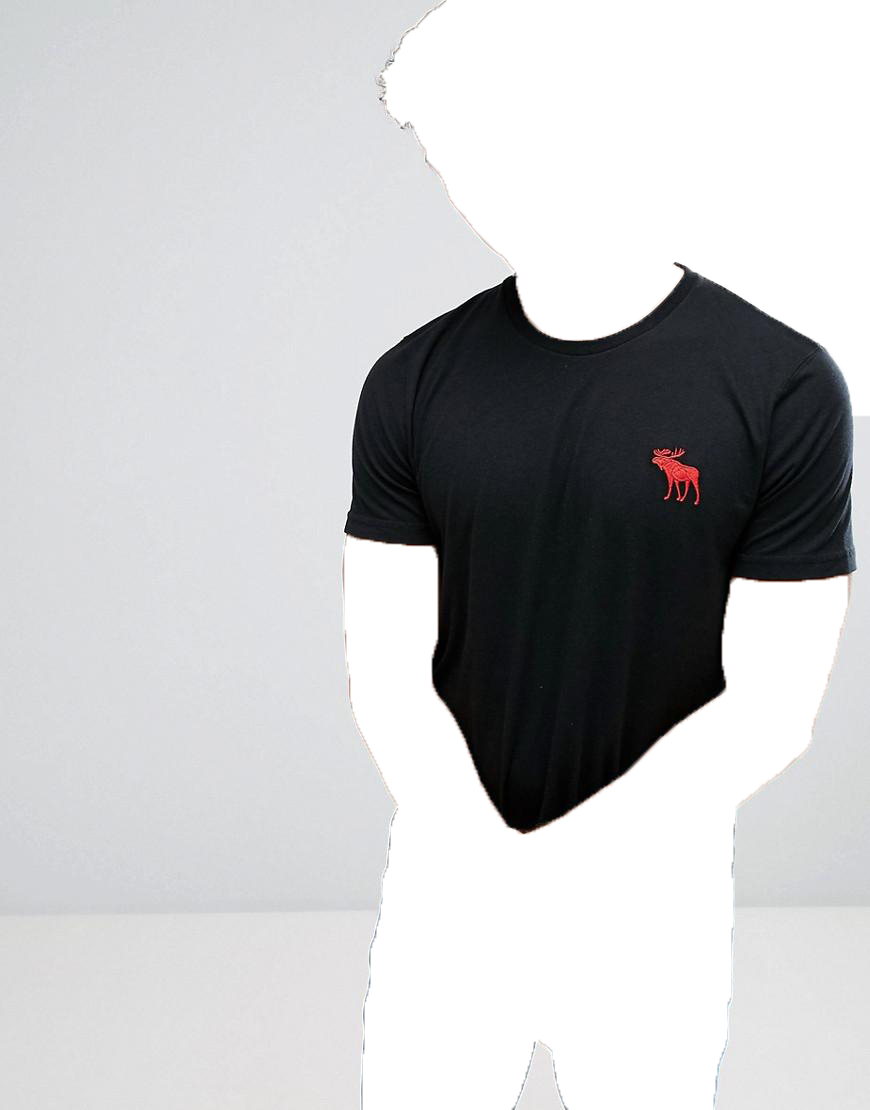teeshirt: (340, 247, 856, 862)
